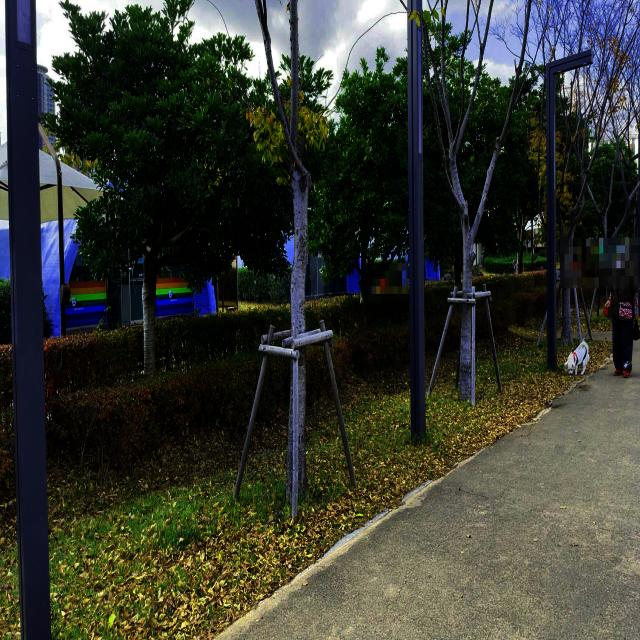Leashed_Dog: (565, 292, 618, 376)
